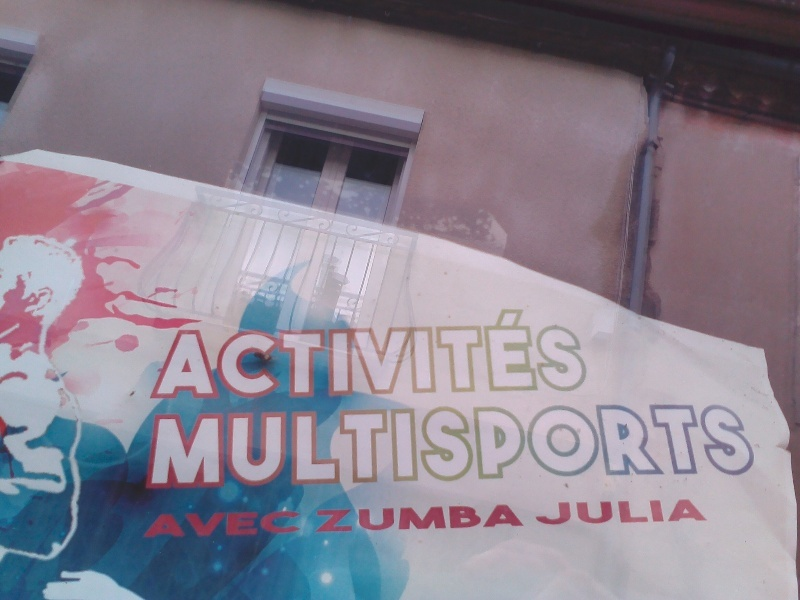text: (193, 306, 208, 401), (209, 306, 224, 401), (225, 306, 240, 401), (241, 306, 256, 401), (257, 306, 272, 401), (273, 306, 288, 401), (289, 306, 304, 401), (305, 306, 320, 401), (321, 306, 336, 401), (337, 306, 352, 401), (353, 306, 368, 401), (369, 306, 384, 401), (385, 306, 400, 401), (401, 306, 416, 401), (417, 306, 432, 401), (433, 306, 448, 401), (449, 306, 464, 401), (465, 306, 480, 401), (481, 306, 496, 401), (497, 306, 512, 401), (513, 306, 528, 401), (529, 306, 544, 401), (545, 306, 560, 401), (561, 306, 576, 401), (577, 306, 592, 401), (161, 402, 176, 490), (177, 402, 192, 490), (193, 402, 208, 490), (209, 402, 224, 490), (225, 402, 240, 490), (241, 402, 256, 490), (257, 402, 272, 490), (273, 402, 288, 490), (289, 402, 304, 490), (305, 402, 320, 490), (321, 402, 336, 490), (337, 402, 352, 490), (353, 402, 368, 490), (369, 402, 384, 490), (385, 402, 400, 490), (401, 402, 416, 490), (417, 402, 432, 490), (433, 402, 448, 490), (449, 402, 464, 490), (465, 402, 480, 490), (481, 402, 496, 490), (497, 402, 512, 490), (513, 402, 528, 490), (529, 402, 544, 490), (545, 402, 560, 490), (561, 402, 576, 490), (577, 402, 592, 490), (593, 402, 608, 490), (609, 402, 624, 490), (625, 402, 640, 490), (641, 402, 656, 490), (657, 402, 672, 490), (673, 402, 688, 490), (689, 402, 704, 490), (705, 402, 720, 490), (721, 402, 736, 490), (737, 402, 752, 490), (184, 306, 192, 401), (753, 402, 761, 490), (321, 503, 336, 535), (337, 503, 352, 535), (353, 503, 368, 535), (369, 503, 384, 535), (385, 503, 400, 535), (401, 503, 416, 535), (417, 503, 432, 535), (433, 503, 448, 535), (449, 503, 464, 535), (465, 503, 480, 535), (481, 503, 496, 535), (497, 503, 512, 535), (545, 498, 560, 528), (561, 498, 576, 528), (577, 498, 592, 528), (593, 498, 608, 528), (609, 498, 624, 528), (625, 498, 640, 528), (641, 498, 656, 528), (657, 498, 672, 528), (673, 498, 688, 528), (689, 498, 704, 528), (155, 402, 160, 490), (161, 511, 176, 540), (177, 511, 192, 540), (193, 511, 208, 540), (209, 511, 224, 540), (225, 511, 240, 540), (241, 511, 256, 540), (257, 511, 272, 540), (273, 511, 288, 540), (513, 503, 526, 535), (289, 511, 301, 540), (534, 498, 544, 528), (705, 498, 712, 528), (316, 503, 320, 535), (157, 511, 160, 540)
